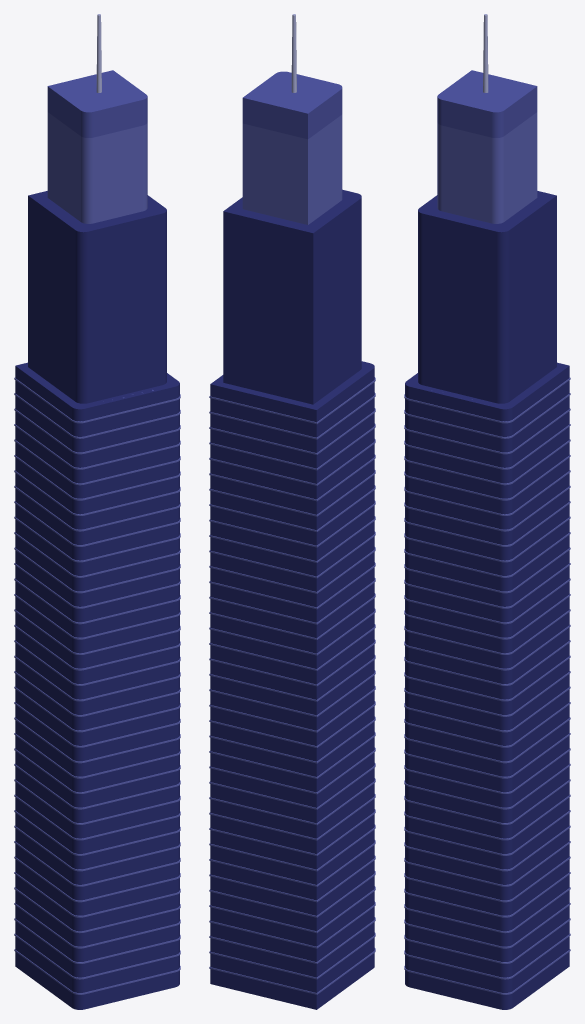
The model's file is towerSquare.glb.
The picture shows the model from 3 angles, left to right: view 1: azimuth 30°, elevation 25°; view 2: azimuth 150°, elevation 25°; view 3: azimuth 330°, elevation 25°; orthographic projection.
Visible parts, largest first — view 1: baked0, baked1, baked2, baked3; view 2: baked0, baked1, baked2, baked3; view 3: baked0, baked1, baked2, baked3.
Boxes of the visible parts, x1,y1,x2,y2 form: baked0: [15, 191, 179, 1009]; baked1: [14, 112, 180, 994]; baked2: [47, 70, 153, 401]; baked3: [96, 14, 101, 92]; baked0: [210, 189, 374, 1009]; baked1: [209, 114, 375, 994]; baked2: [242, 71, 342, 139]; baked3: [291, 14, 296, 92]; baked0: [405, 191, 569, 1009]; baked1: [404, 112, 570, 994]; baked2: [431, 70, 537, 399]; baked3: [483, 14, 488, 92].
Size of the model in its own units: 26.31 by 224 by 26.31.
